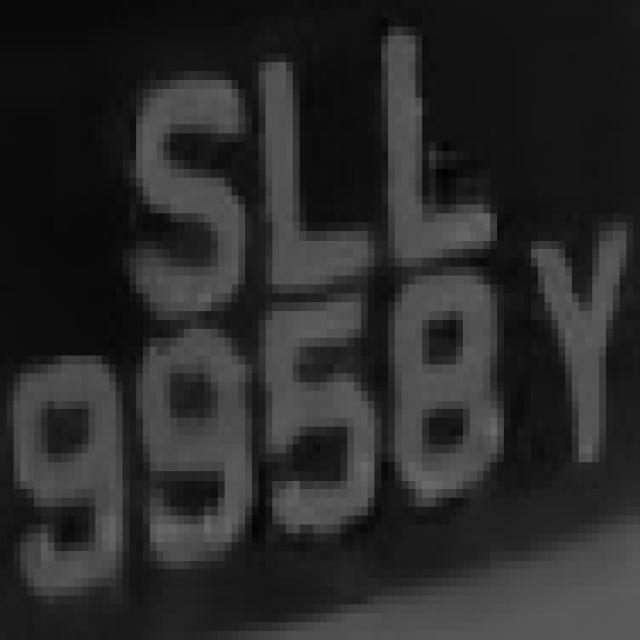5: (252, 284, 381, 560)
8: (354, 249, 524, 515)
9: (130, 294, 266, 596), (14, 311, 129, 631)
L: (340, 36, 510, 276), (245, 27, 368, 311)
S: (109, 62, 259, 311)
Y: (518, 169, 633, 489)
